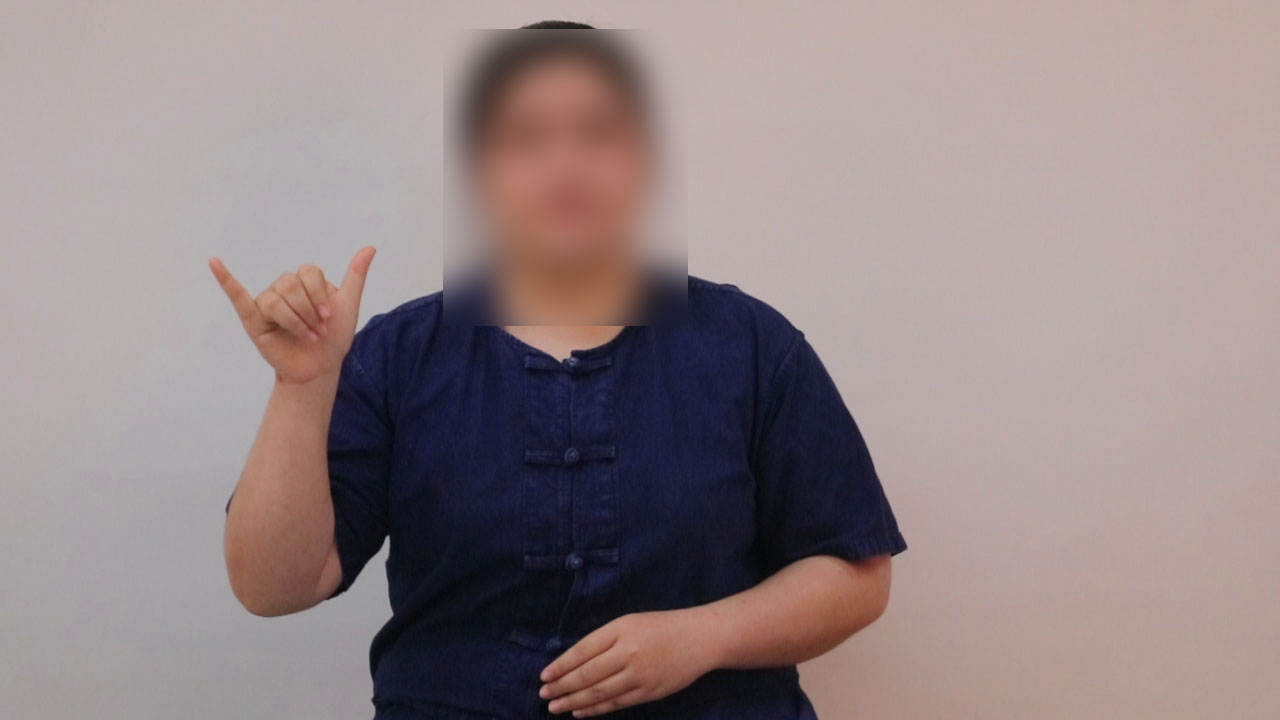yor: (200, 237, 381, 393)
